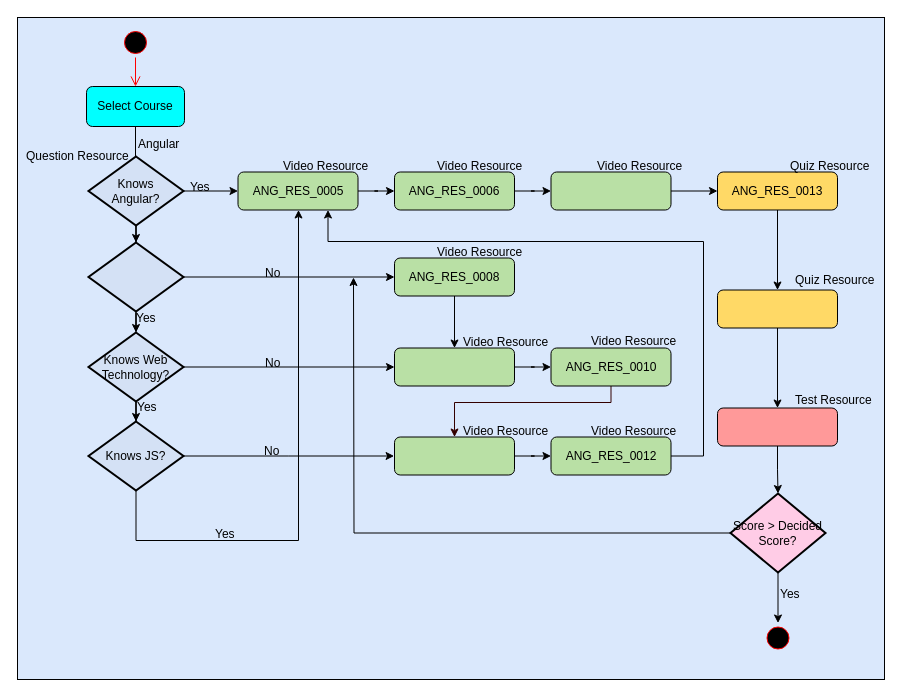
Image size: 902x697. Some labels were removed from this diagram. Here are the shapes that lost their labels. From the top down, the centre of each, then its label:
point (610, 190): ANG_RES_0007
point (135, 276): knows Client-Server?
point (777, 308): ANG_RES_0014
point (454, 366): ANG_RES_0009
point (777, 426): ANG_RES_0015
point (454, 455): ANG_RES_0011
